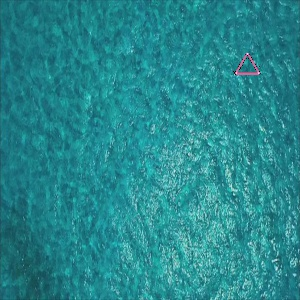triangle: (232, 50, 262, 78)
